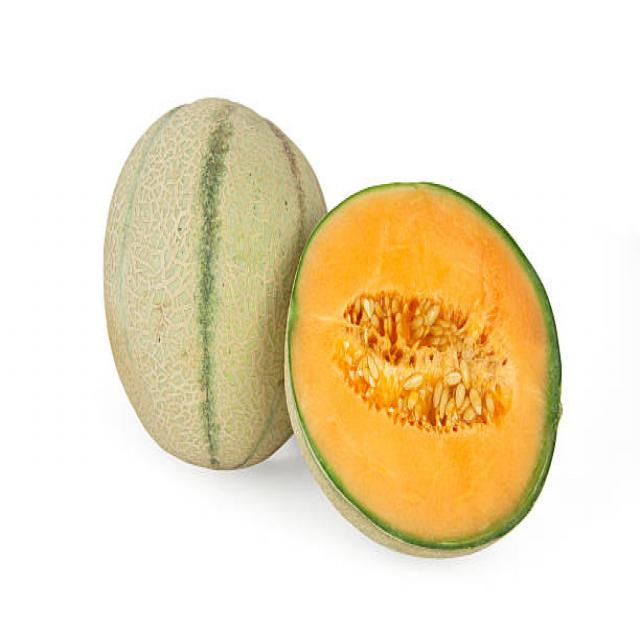melon: (312, 179, 566, 563), (98, 91, 288, 472)
